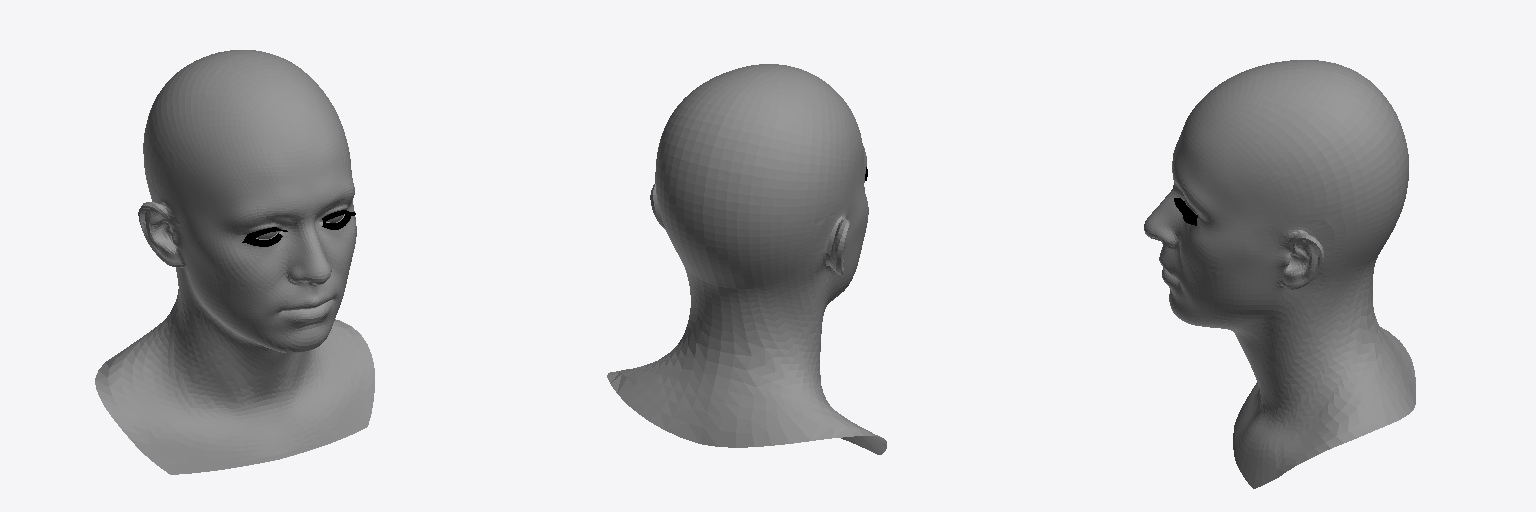
File: identity048.obj
The picture shows the model from 3 angles: view 1: azimuth 30°, elevation 25°; view 2: azimuth 150°, elevation 25°; view 3: azimuth 270°, elevation 25°; orthographic projection.
Size of the model in its own units: 24.85 by 33.8 by 22.35.